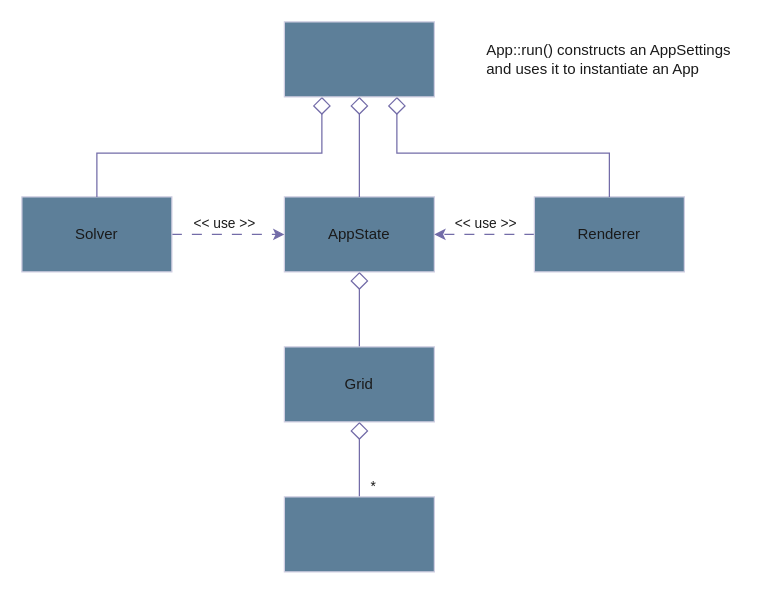
Image size: 781x594. Some labels were removed from this diagram. The centre of each missing label's shape, as x and y in pixels:
"App" belongs at (358,59).
"Tile" belongs at (358,534).
